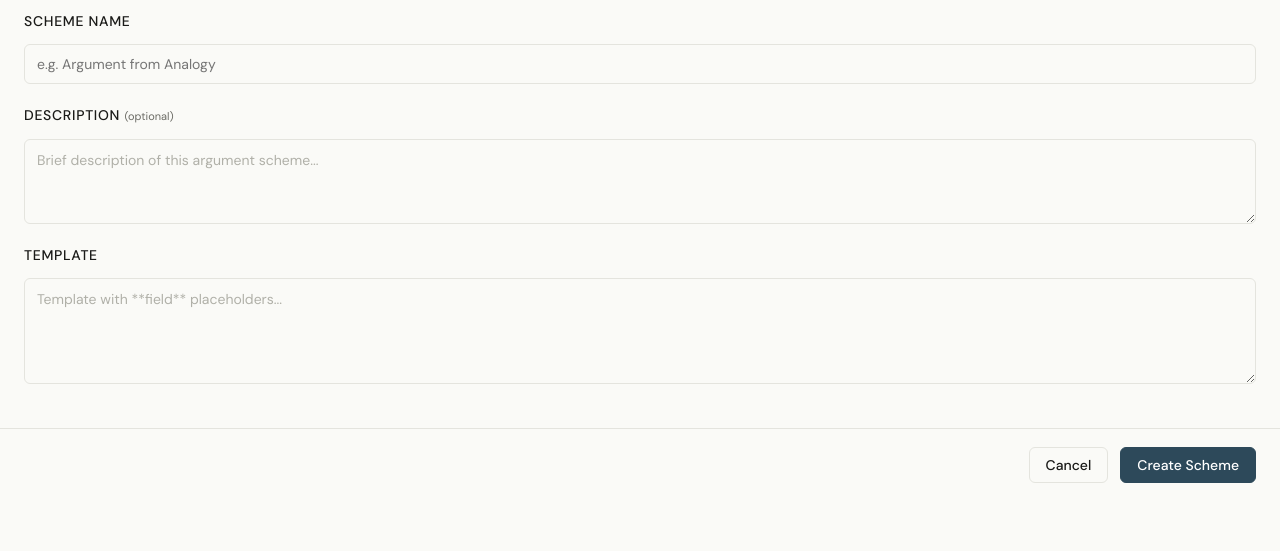
it: AddSchemeForm › shows validation error when name is empty
This screenshot has width=1280, height=551.
Click the button "Create Scheme" at (1188, 465), box [1120,447,1256,483]
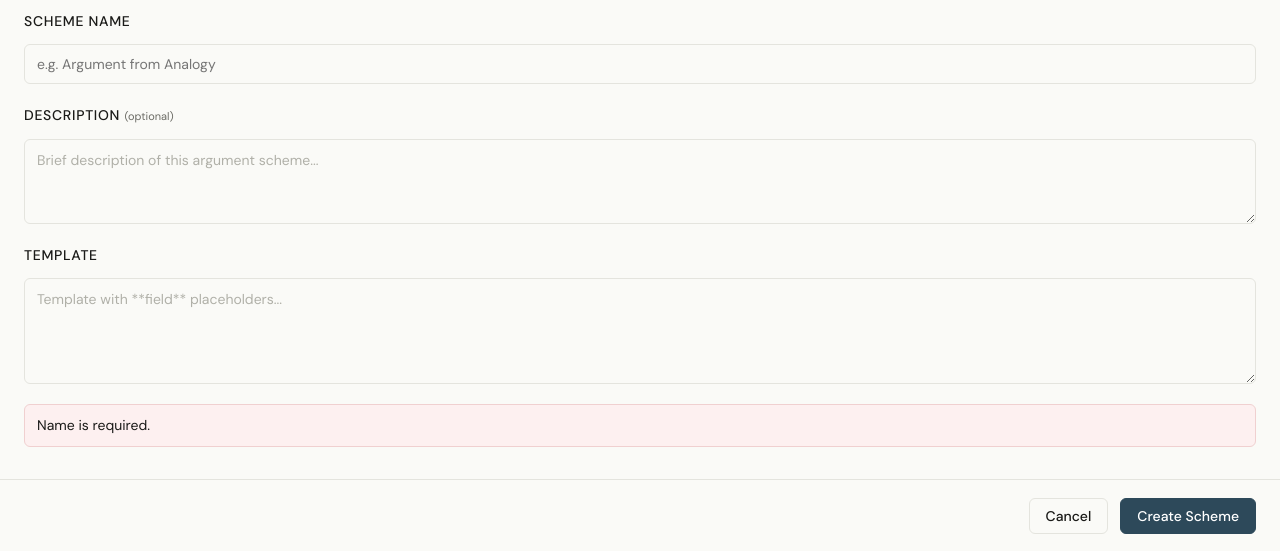
Check: the text "Name is required." is shown, box [24,404,1256,447]
